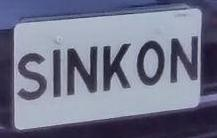0: (133, 33, 168, 95)
1: (46, 43, 66, 103)
K: (100, 36, 134, 98)
N: (64, 41, 101, 100), (168, 31, 201, 88)
S: (15, 48, 49, 105)
